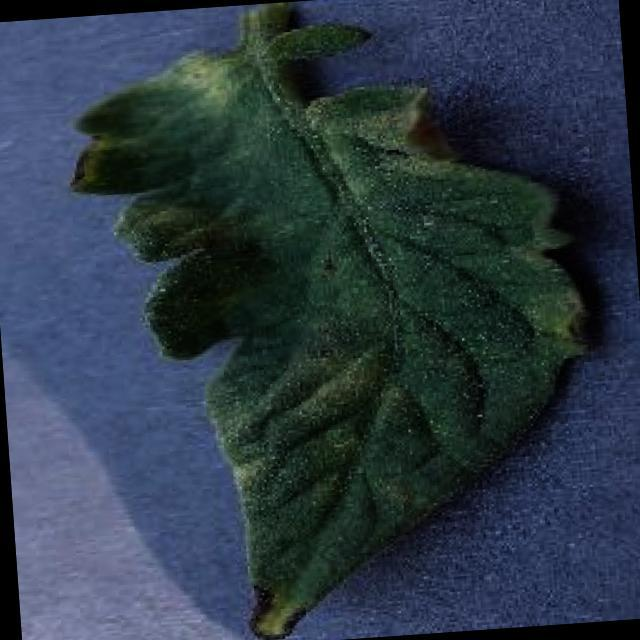Tomato mold leaf: (67, 23, 617, 640)
